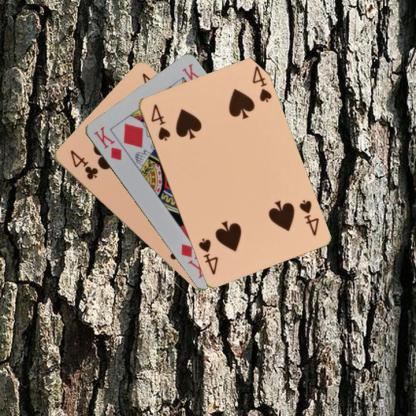4c: (67, 147, 99, 181)
4s: (148, 101, 172, 142), (296, 197, 320, 238)
Kd: (91, 124, 123, 162)
